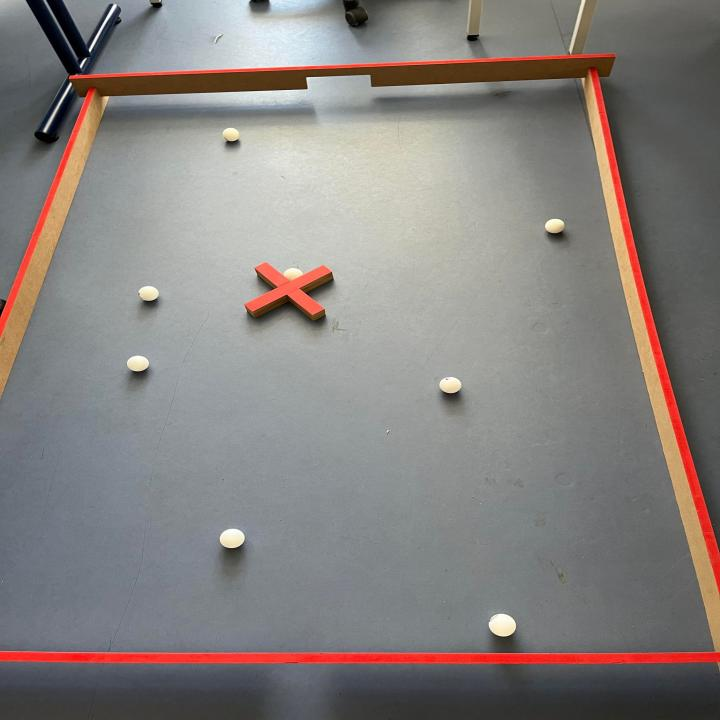white: (485, 610, 518, 638), (211, 125, 246, 146), (135, 281, 160, 307), (537, 220, 574, 236), (221, 526, 244, 551), (125, 354, 152, 374), (439, 377, 464, 398), (284, 267, 304, 279)
